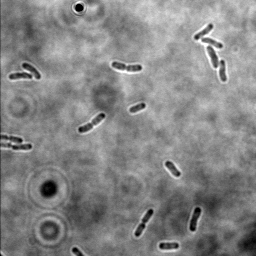Dividing: (76, 110, 106, 135), (132, 207, 155, 238), (110, 60, 143, 74), (1, 140, 34, 151), (1, 133, 25, 145)
Rod: (192, 22, 214, 41), (188, 206, 203, 233), (204, 44, 220, 69), (20, 61, 41, 80), (164, 160, 182, 180), (200, 36, 224, 49), (127, 101, 147, 115), (217, 59, 228, 83), (7, 72, 33, 81), (158, 241, 180, 251)
